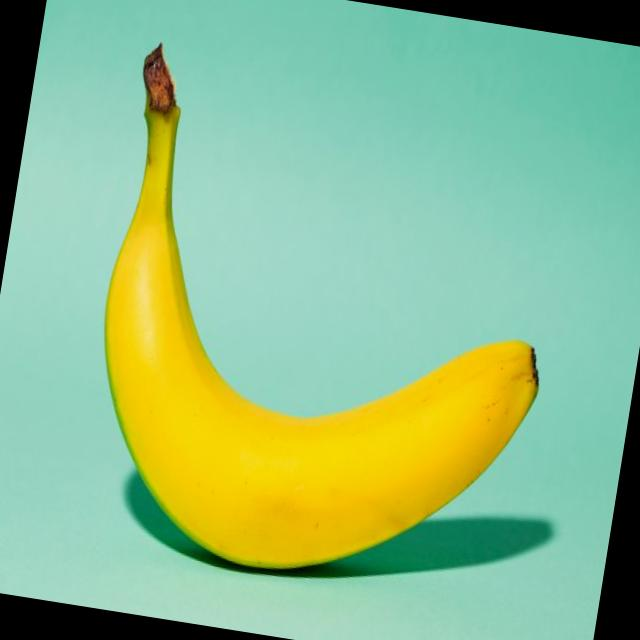banana: (50, 42, 597, 640)
